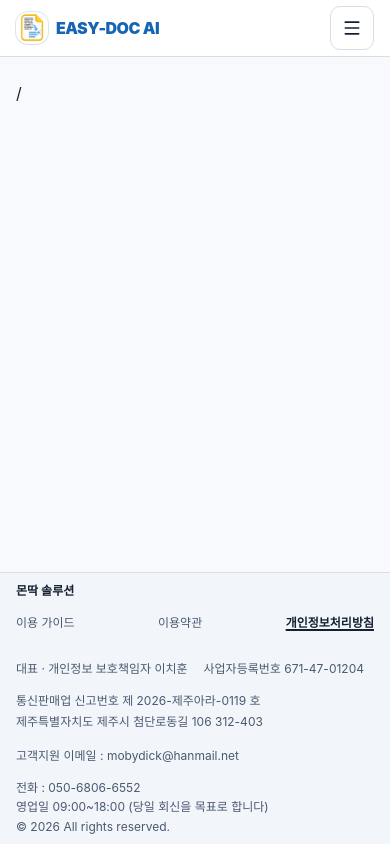
Test: 모바일 메뉴 ARIA › 새 변환 선택 후 메뉴를 닫는다 (현재 페이지 포함)
Click the button named "메뉴 열기" at (352, 28), box x1=330 y1=6 x2=374 y2=50
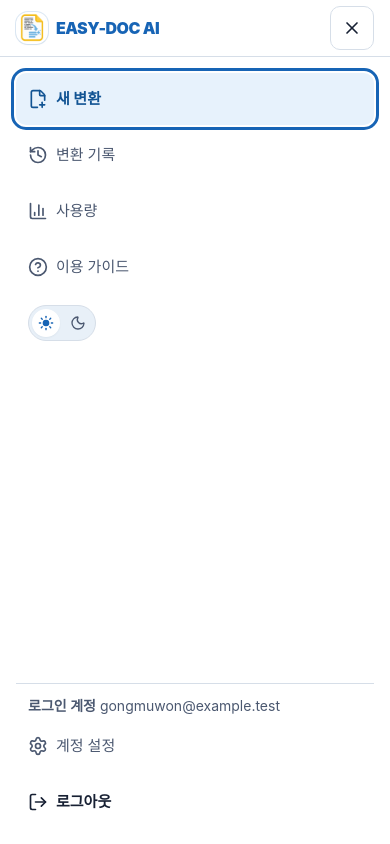
Click the link "새 변환" at (78, 98), box x1=16 y1=73 x2=374 y2=125
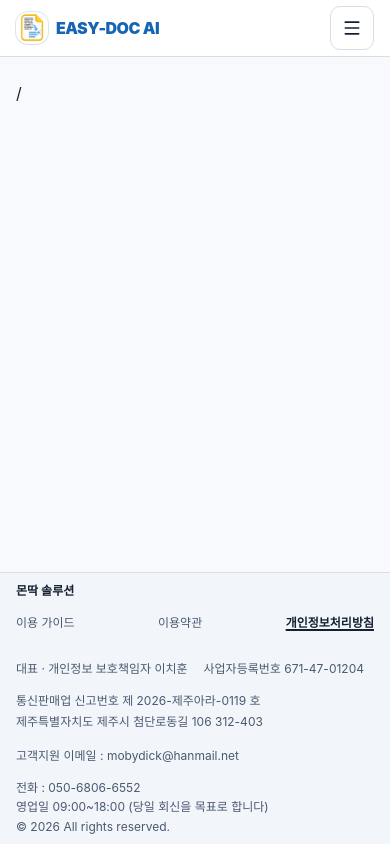
Expected: the text with test id "location" reads "/", x1=16 y1=83 x2=22 y2=103
Expected: the button named "메뉴 열기" is collapsed, x1=330 y1=6 x2=374 y2=50
